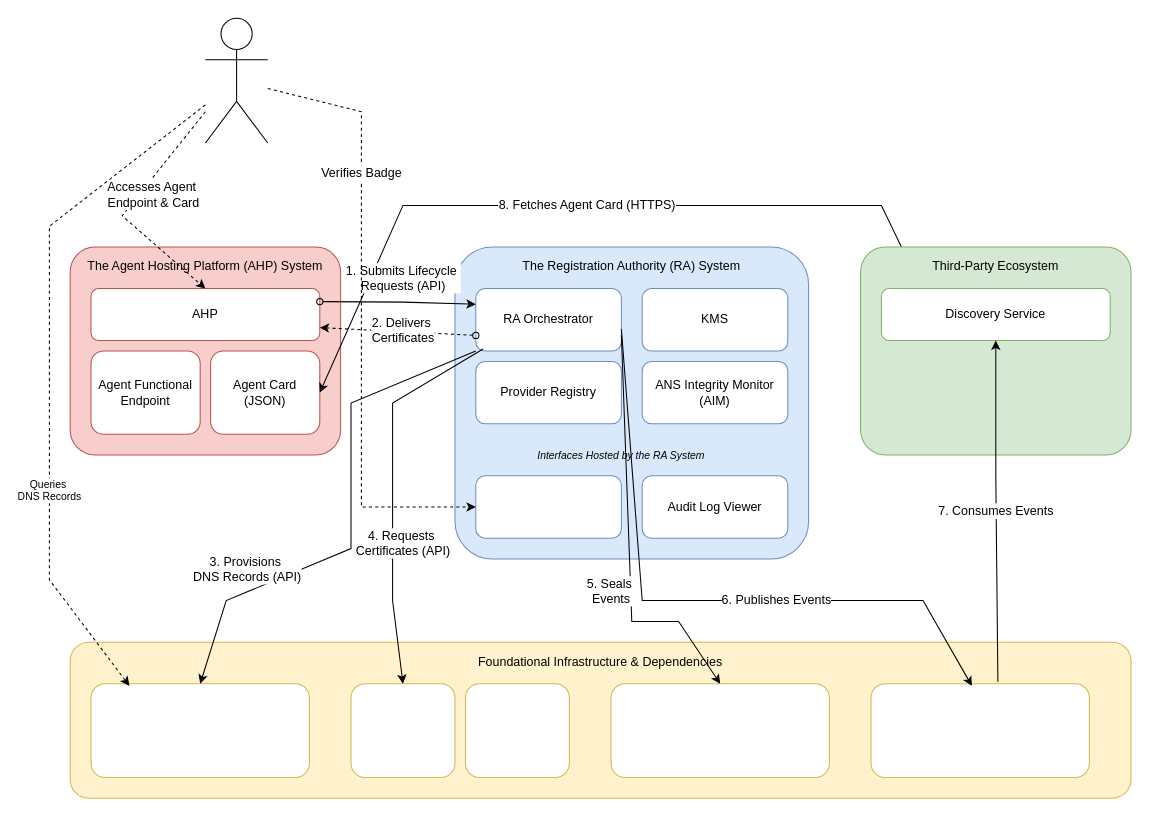
This 1149x816 diagram has some shape labels left out. The centre of each missing label's shape, as x and y in pixels:
"DNS Provider" belongs at (199,730).
"Dynamic Badge Lander" belongs at (548,506).
"Private CA" belongs at (516,730).
"Pub/Sub System" belongs at (979,730).
"Public CA" belongs at (402,730).
"Transparency Log (TL)" belongs at (719,730).
"User / Relying Agent" belongs at (236,80).
